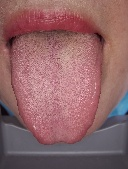tongue: (9, 36, 102, 146)
